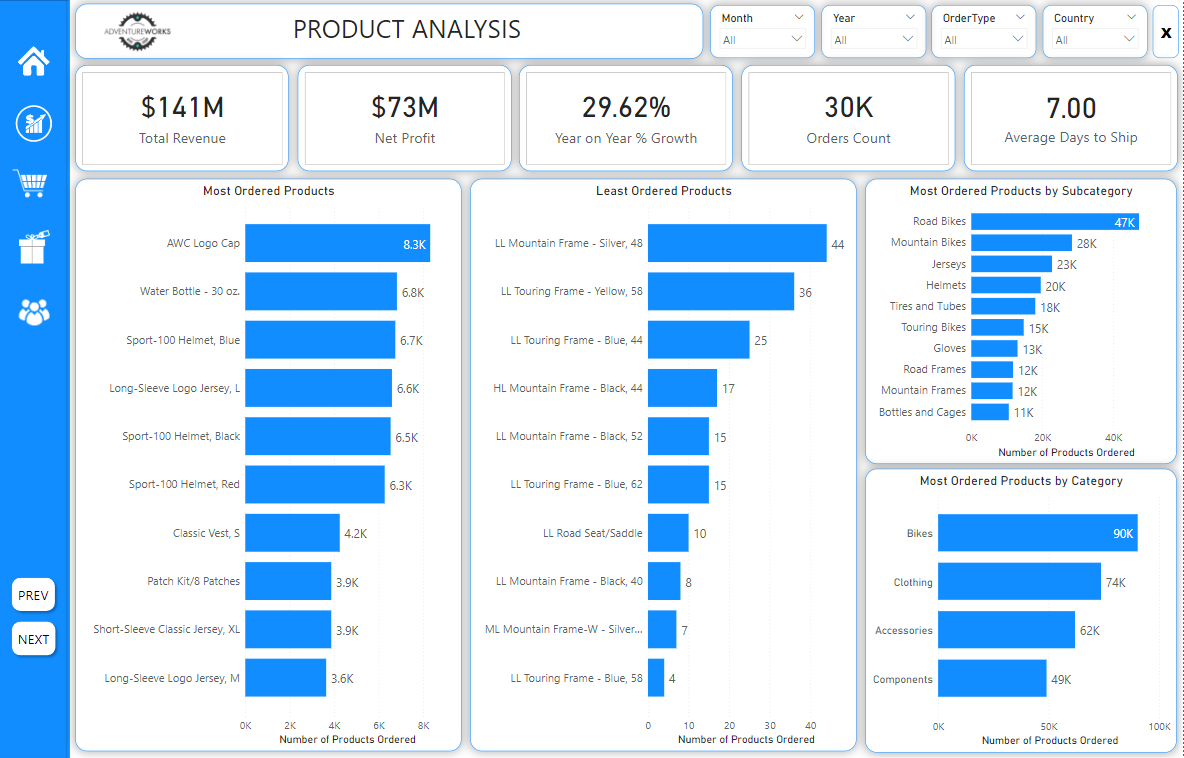

What the dashboard file says about the page in this screenshot:
{"tool":"powerbi","page":{"name":"Sales by Products","canvas":[2000,1280],"ordinal":3},"visuals":[{"type":"group","id":"g1","title":"Group 1","box":[129.3,6.4,1059.6,92.9],"z":0,"group":"g2"},{"type":"textbox","box":[129.3,6.4,1059.6,92.9],"z":0,"group":"g1"},{"type":"slicer","title":"Month","fields":{"Values":["DimDate.Date.Variation.Date Hierarchy.Month"]},"box":[1200,8.3,177.1,89.6],"z":0},{"type":"image","box":[21.4,68.2,75,70],"z":0,"group":"g4"},{"type":"image","box":[15,170.7,88,75],"z":0,"group":"g5"},{"type":"image","box":[15.8,274.3,70.7,70.7],"z":0,"group":"g6"},{"type":"image","box":[27.2,495.1,63.4,63.4],"z":0,"group":"g3"},{"type":"group","id":"g2","title":"Group 2","box":[129.3,6.4,1059.6,92.9],"z":1000},{"type":"image","box":[160.6,13.9,146.9,77.8],"z":1000,"group":"g1"},{"type":"shape","box":[0,0,119.5,1280.5],"z":2000},{"type":"shape","box":[0,0,115,1281.3],"z":3000},{"type":"clusteredBarChart","title":"Most Ordered Products by Subcategory","fields":{"Category":["DimProduct.ProductSubcategory"],"Y":["_Measures.Number of Products Ordered"]},"box":[1462.8,301.9,525.6,481.3],"z":4000},{"type":"slicer","fields":{"Values":["FactSales.OrderType"]},"box":[1575,8.3,177.1,89.6],"z":5000},{"type":"clusteredBarChart","title":"Most Ordered Products by Category","fields":{"Category":["DimProduct.ProductCategory"],"Y":["_Measures.Number of Products Ordered"]},"box":[1462.8,791.6,525.6,479.2],"z":6000},{"type":"slicer","fields":{"Values":["DimDate.Date.Variation.Date Hierarchy.Year"]},"box":[1387.5,8.3,177.1,89.6],"z":7000},{"type":"clusteredBarChart","title":"Most Ordered Products","fields":{"Category":["DimProduct.ProductName"],"Y":["_Measures.Number of Products Ordered"]},"box":[128.8,301.9,652.3,966.8],"z":8000},{"type":"group","id":"g3","title":"Group 3","box":[27.2,495.1,63.4,63.4],"z":9000},{"type":"group","id":"g4","title":"Group 4","box":[21.4,68.2,75,70],"z":10000},{"type":"group","id":"g5","title":"Group 5","box":[15,170.7,87.8,73.2],"z":11000},{"type":"group","id":"g6","title":"Group 6","box":[15.8,274.3,70.7,70.7],"z":12000},{"type":"clusteredBarChart","title":"Least Ordered Products","fields":{"Category":["DimProduct.ProductName"],"Y":["_Measures.Number of Products Ordered"]},"box":[795.8,301.9,652.3,966.8],"z":13000},{"type":"image","box":[16.3,382.9,85.4,70.7],"z":14000},{"type":"shape","box":[12.5,1039.6,91.7,75],"z":15000},{"type":"actionButton","box":[1947.9,8.3,43.8,89.6],"z":16000},{"type":"shape","box":[12.7,966.8,90.8,73.9],"z":17000},{"type":"slicer","fields":{"Values":["DimSalesTerritory.Name"]},"box":[1762.5,8.3,177.1,89.6],"z":18000},{"type":"cardVisual","title":"Total Revenue","fields":{"Data":["FactSales.Total Revenue"]},"box":[128.4,110.4,360,179.4],"z":19000},{"type":"cardVisual","title":"Total Revenue","fields":{"Data":["FactSales.OrdercOunt"]},"box":[1253.9,110.4,360.4,179.2],"z":20000},{"type":"cardVisual","title":"Total Revenue","fields":{"Data":["FactSales.Avg. Days to Ship"]},"box":[1629.2,110.4,360.4,179.2],"z":21000},{"type":"cardVisual","title":"Total Revenue","fields":{"Data":["_Measures.YOY%"]},"box":[878.6,110.4,360.4,179.2],"z":22000},{"type":"cardVisual","title":"Total Revenue","fields":{"Data":["FactSales.Net Profit"]},"box":[503.3,110.4,360.4,179.2],"z":23000}]}

Visuals, with their boxes on the page's 2000x1280 design canvas (x1, y1, x2, y2). These are canvas units, not pixel positions in the 1184x758 screenshot, which may show the page scaled, cropped or inside an application window:
"Group 1" group: {"left": 129, "top": 6, "right": 1189, "bottom": 99}
textbox: {"left": 129, "top": 6, "right": 1189, "bottom": 99}
"Month" slicer: {"left": 1200, "top": 8, "right": 1377, "bottom": 98}
image: {"left": 21, "top": 68, "right": 96, "bottom": 138}
image: {"left": 15, "top": 171, "right": 103, "bottom": 246}
image: {"left": 16, "top": 274, "right": 86, "bottom": 345}
image: {"left": 27, "top": 495, "right": 91, "bottom": 558}
"Group 2" group: {"left": 129, "top": 6, "right": 1189, "bottom": 99}
image: {"left": 161, "top": 14, "right": 308, "bottom": 92}
shape: {"left": 0, "top": 0, "right": 120, "bottom": 1280}
shape: {"left": 0, "top": 0, "right": 115, "bottom": 1281}
"Most Ordered Products by Subcategory" clusteredBarChart: {"left": 1463, "top": 302, "right": 1988, "bottom": 783}
slicer - FactSales.OrderType: {"left": 1575, "top": 8, "right": 1752, "bottom": 98}
"Most Ordered Products by Category" clusteredBarChart: {"left": 1463, "top": 792, "right": 1988, "bottom": 1271}
slicer - DimDate.Date.Variation.Date Hierarchy.Year: {"left": 1388, "top": 8, "right": 1565, "bottom": 98}
"Most Ordered Products" clusteredBarChart: {"left": 129, "top": 302, "right": 781, "bottom": 1269}
"Group 3" group: {"left": 27, "top": 495, "right": 91, "bottom": 558}
"Group 4" group: {"left": 21, "top": 68, "right": 96, "bottom": 138}
"Group 5" group: {"left": 15, "top": 171, "right": 103, "bottom": 244}
"Group 6" group: {"left": 16, "top": 274, "right": 86, "bottom": 345}
"Least Ordered Products" clusteredBarChart: {"left": 796, "top": 302, "right": 1448, "bottom": 1269}
image: {"left": 16, "top": 383, "right": 102, "bottom": 454}
shape: {"left": 12, "top": 1040, "right": 104, "bottom": 1115}
actionButton: {"left": 1948, "top": 8, "right": 1992, "bottom": 98}
shape: {"left": 13, "top": 967, "right": 104, "bottom": 1041}
slicer - DimSalesTerritory.Name: {"left": 1762, "top": 8, "right": 1940, "bottom": 98}
"Total Revenue" cardVisual: {"left": 128, "top": 110, "right": 488, "bottom": 290}
"Total Revenue" cardVisual: {"left": 1254, "top": 110, "right": 1614, "bottom": 290}
"Total Revenue" cardVisual: {"left": 1629, "top": 110, "right": 1990, "bottom": 290}
"Total Revenue" cardVisual: {"left": 879, "top": 110, "right": 1239, "bottom": 290}
"Total Revenue" cardVisual: {"left": 503, "top": 110, "right": 864, "bottom": 290}
